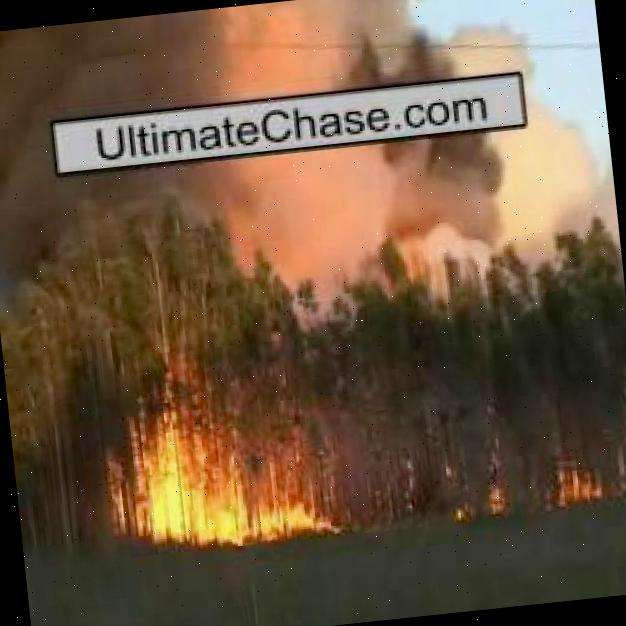fire: (140, 427, 328, 556), (448, 482, 522, 522), (555, 467, 608, 512)
